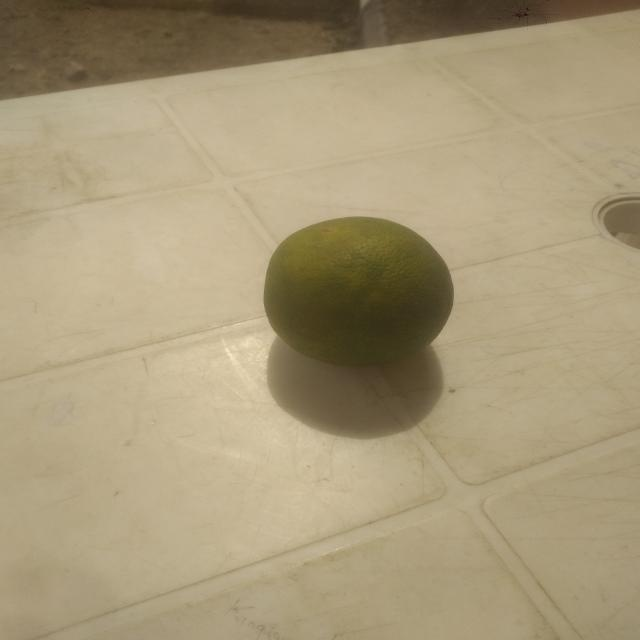agrume: (256, 206, 460, 372)
